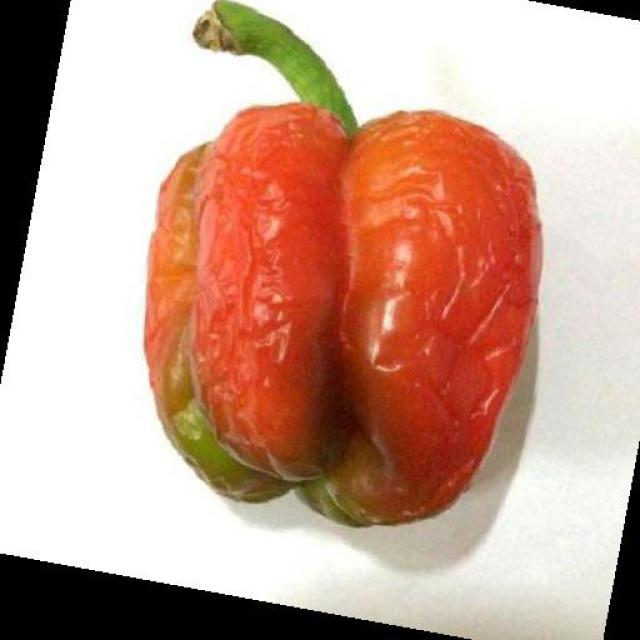Stale_Capsicum: (117, 14, 553, 545)
